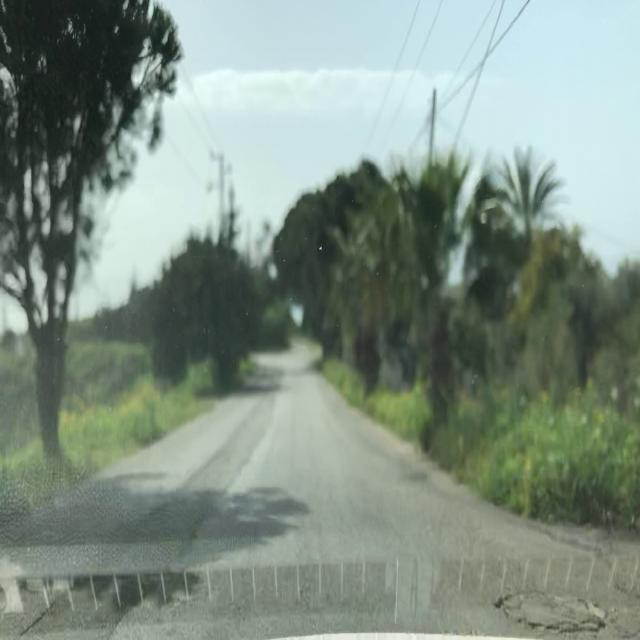Buraco: (490, 586, 617, 636)
